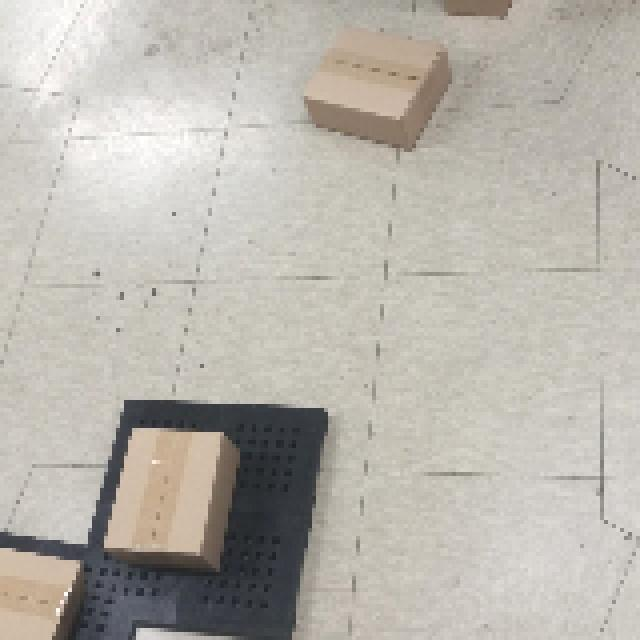box: (102, 419, 244, 579), (296, 25, 459, 156)
pallet: (50, 394, 334, 640)
